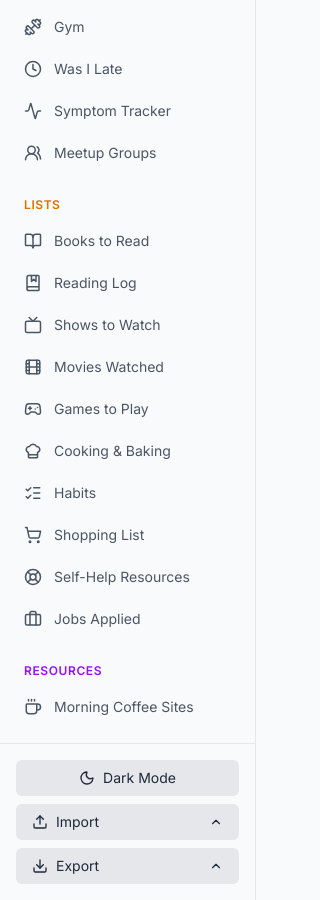
Test case: Sidebar › clicking Import opens the format menu with Excel and Markdown options
The width and height of the screenshot is (320, 900).
(page scrolled)
Click the button "Import" at [128, 822], box [16,804,239,840]
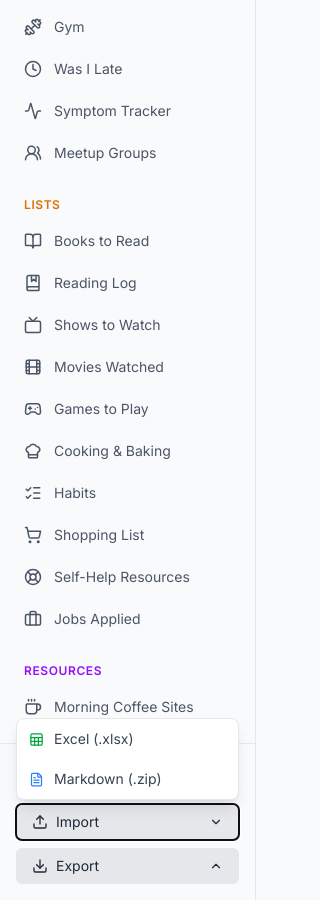
expect the button "Excel (.xlsx)" is shown: met, box [17,719,238,759]
expect the button "Markdown (.zip)" is shown: met, box [17,759,238,799]
